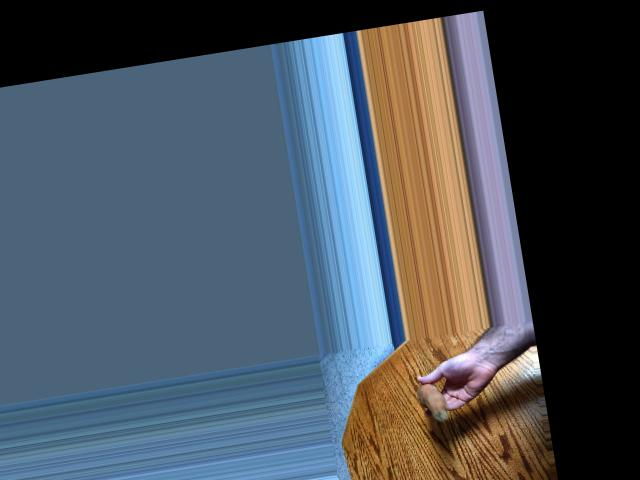sweet_potato: (420, 377, 452, 424)
